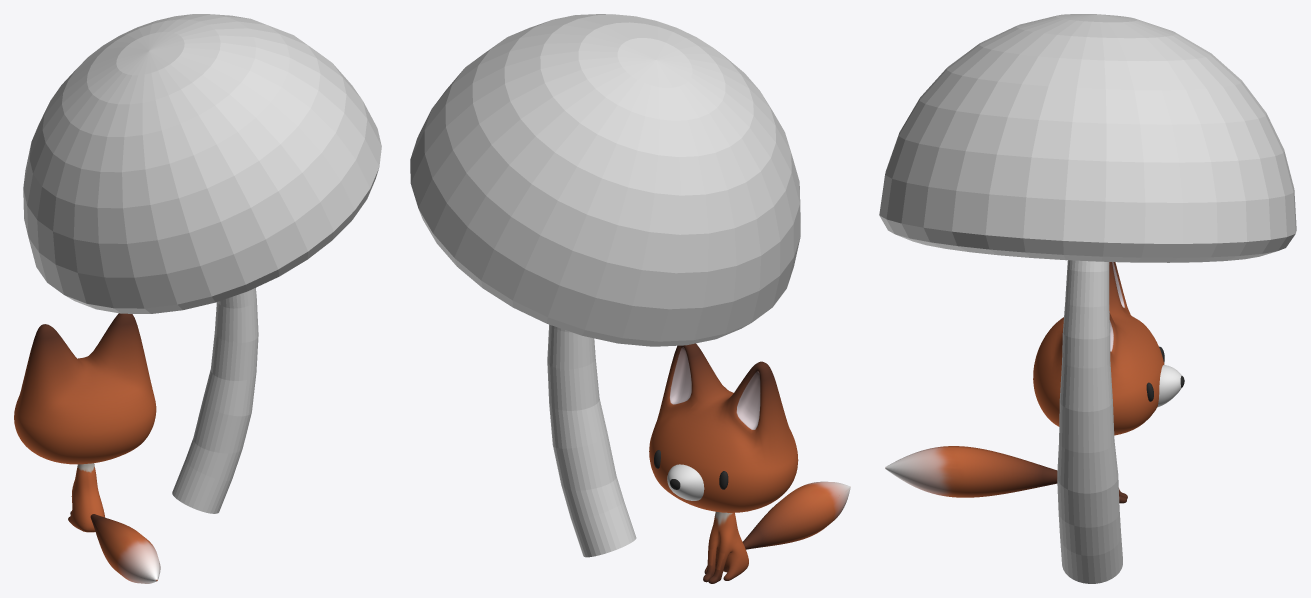
File: fox3.glb
3 renders of one model, left to right at view 1: azimuth 30°, elevation 25°; view 2: azimuth 150°, elevation 25°; view 3: azimuth 270°, elevation 25°, orthographic. The views are drawn at different scales.
Visible parts, largest first — view 1: Sphere, FOX, Cylinder, tail, body; view 2: Sphere, FOX, Cylinder, tail, body, mouse; view 3: Sphere, Cylinder, FOX, tail, mouse.
Boxes of the visible parts, <box> form: Sphere: <box>23,14,381,313</box>; FOX: <box>14,313,156,464</box>; Cylinder: <box>172,288,258,513</box>; tail: <box>90,514,160,583</box>; body: <box>68,463,104,532</box>; Sphere: <box>410,14,800,346</box>; FOX: <box>649,343,798,512</box>; Cylinder: <box>547,324,636,557</box>; tail: <box>742,481,850,549</box>; body: <box>703,511,748,583</box>; mouse: <box>667,464,704,500</box>; Sphere: <box>879,14,1296,262</box>; Cylinder: <box>1057,260,1122,583</box>; FOX: <box>1033,262,1164,435</box>; tail: <box>885,446,1057,497</box>; mouse: <box>1157,365,1181,407</box>.
Bounding box in the file's own units: 0.5974 × 0.8299 × 0.5759.
5 materials, 3 textured.
